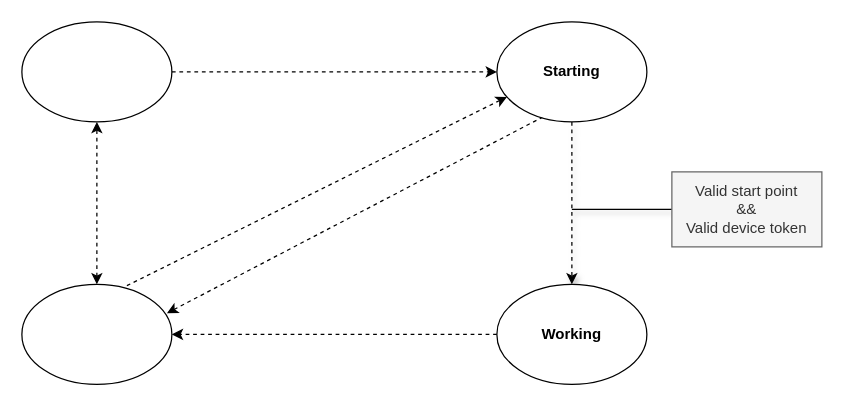
Image size: 844x406. Some labels were removed from this diagram. The shapes that lost their labels are listed below. From the top down, each one's centre as x and y in pixels, then its label:
point 96,71: Available
point 96,333: Not Working
